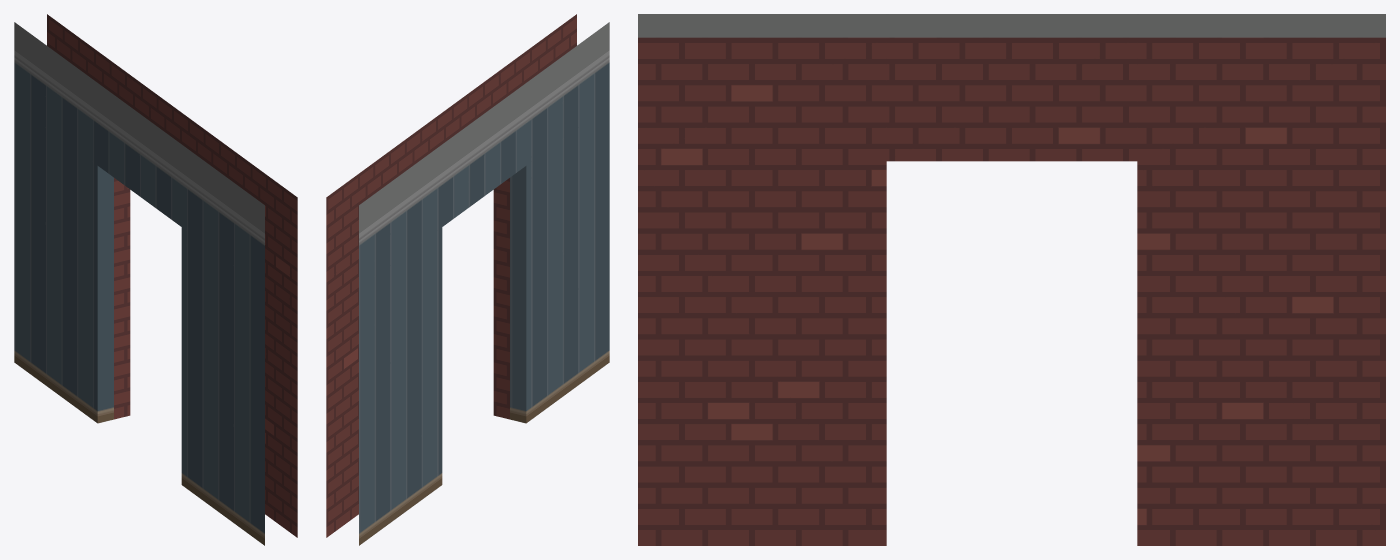
Rendered from SM_wallDoor_01.glb.
The picture shows the model from 3 angles, left to right: view 1: azimuth 30°, elevation 25°; view 2: azimuth 150°, elevation 25°; view 3: azimuth 270°, elevation 25°; orthographic projection. The views are drawn at different scales.
Parts seen in each view (by area): view 1: SM_wallDoor_01; view 2: SM_wallDoor_01; view 3: SM_wallDoor_01.
Boxes of the visible parts, x1,y1,x2,y2 form: SM_wallDoor_01: (14, 14, 297, 545); SM_wallDoor_01: (326, 14, 609, 545); SM_wallDoor_01: (638, 14, 1385, 545).
Size of the model in its own units: 0.3 by 3 by 4.
2 materials, 2 textured.
